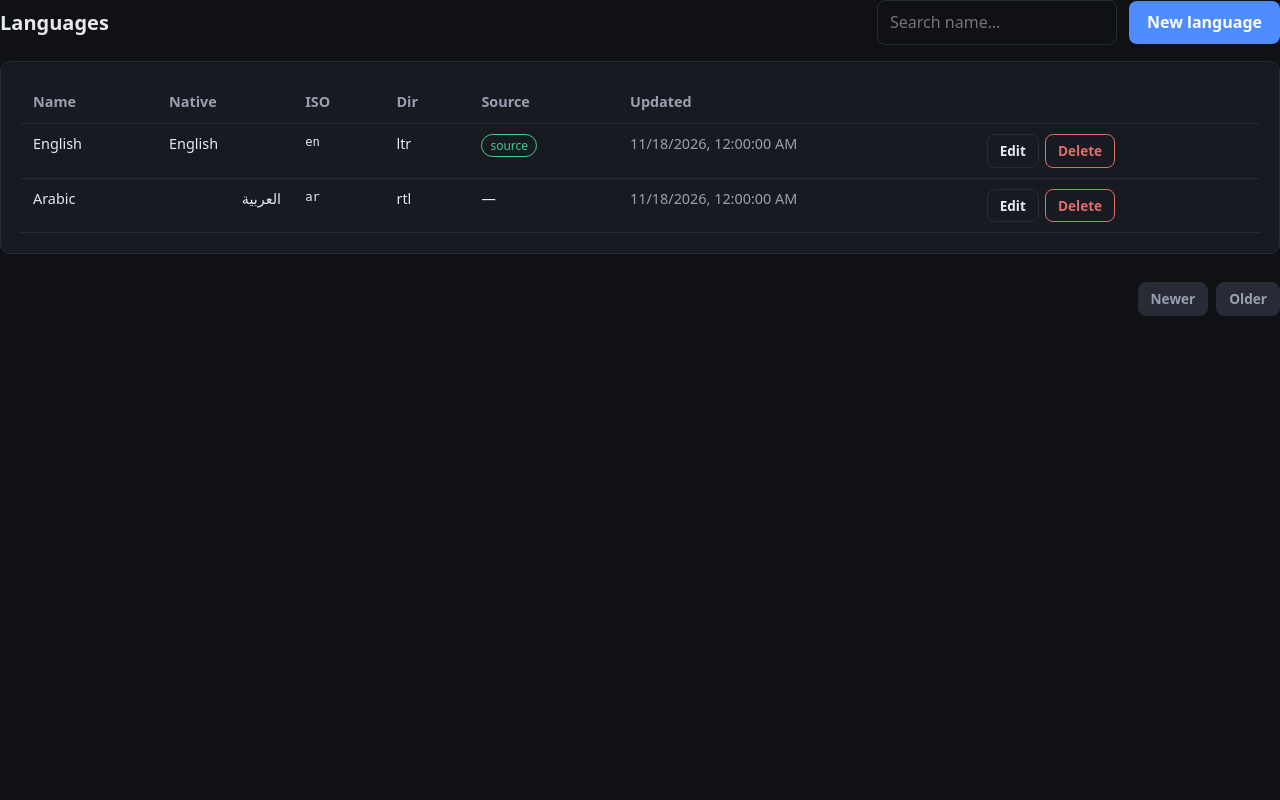
LanguagesAdmin › titles the edit modal with the edited row native name
This screenshot has width=1280, height=800.
Expected: the 1st text "English" is shown, [21,124,157,178]
Click the button "Edit" in the row of "Arabic".
click(1013, 206)  # box [987,189,1039,222]
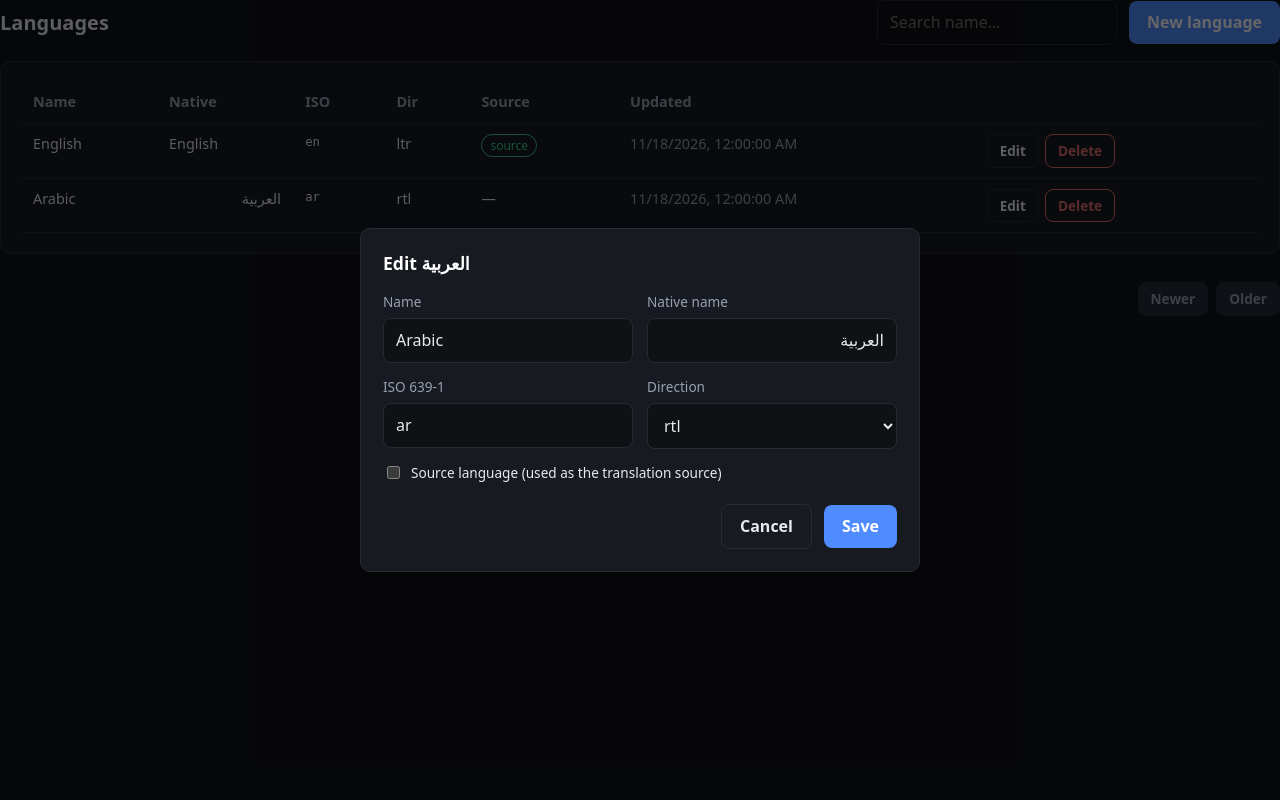
Expected: the heading "Edit العربية" is shown, [383,250,470,274]
